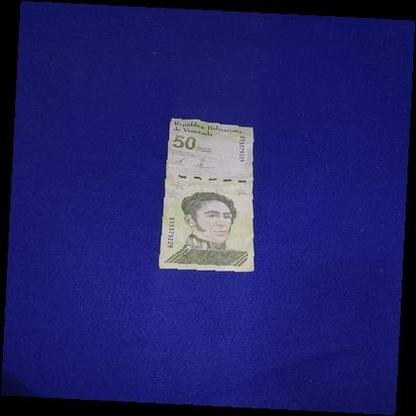fifty-front-vef: (158, 117, 254, 272)
